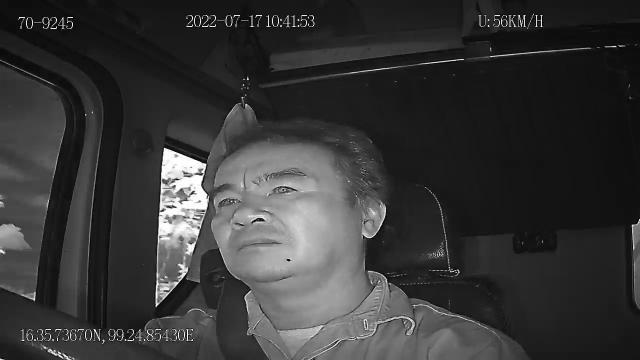SafeDriving: (262, 174, 310, 204), (212, 188, 246, 212)
Seatbelt: (213, 276, 270, 360)
